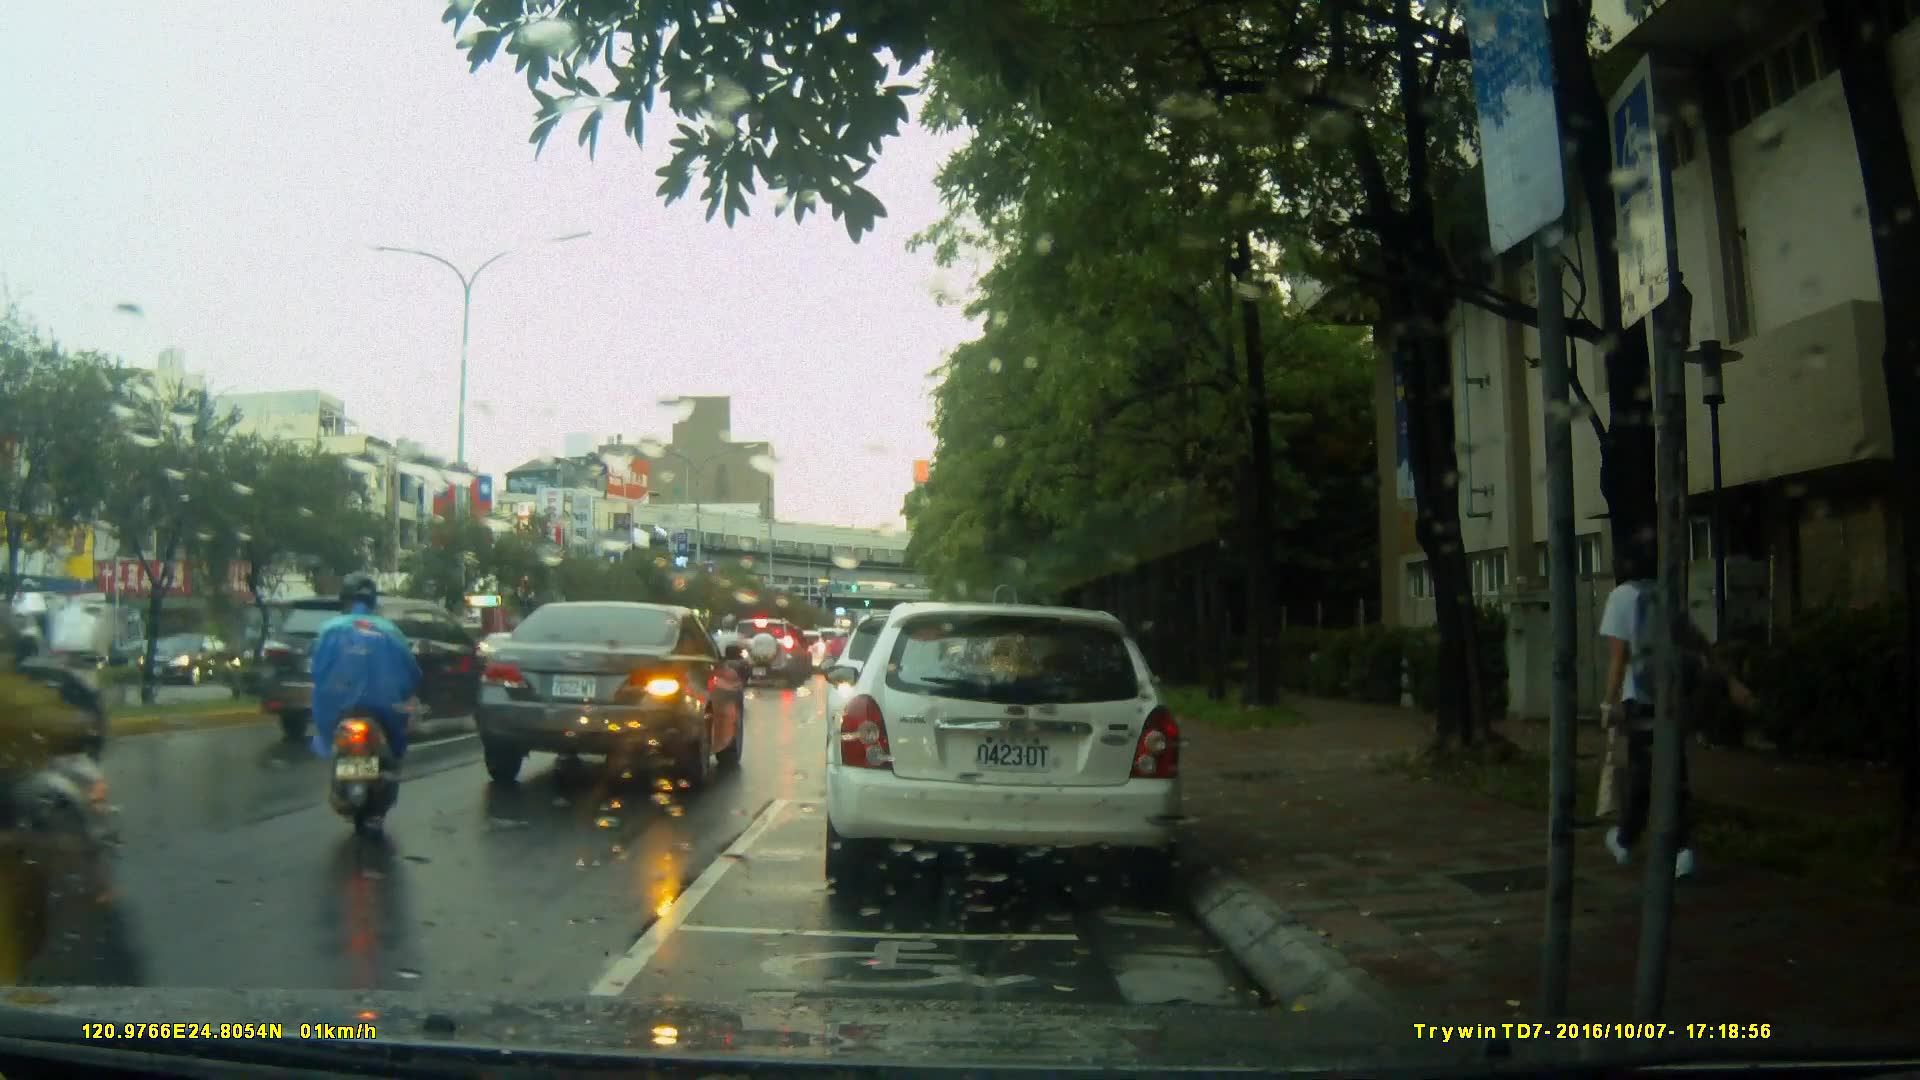pedestrian: (1567, 514, 1707, 879)
rider: (318, 571, 426, 839), (711, 613, 753, 704)
vehicle: (820, 602, 1188, 898), (478, 600, 749, 792), (256, 594, 507, 746), (730, 618, 812, 690)
